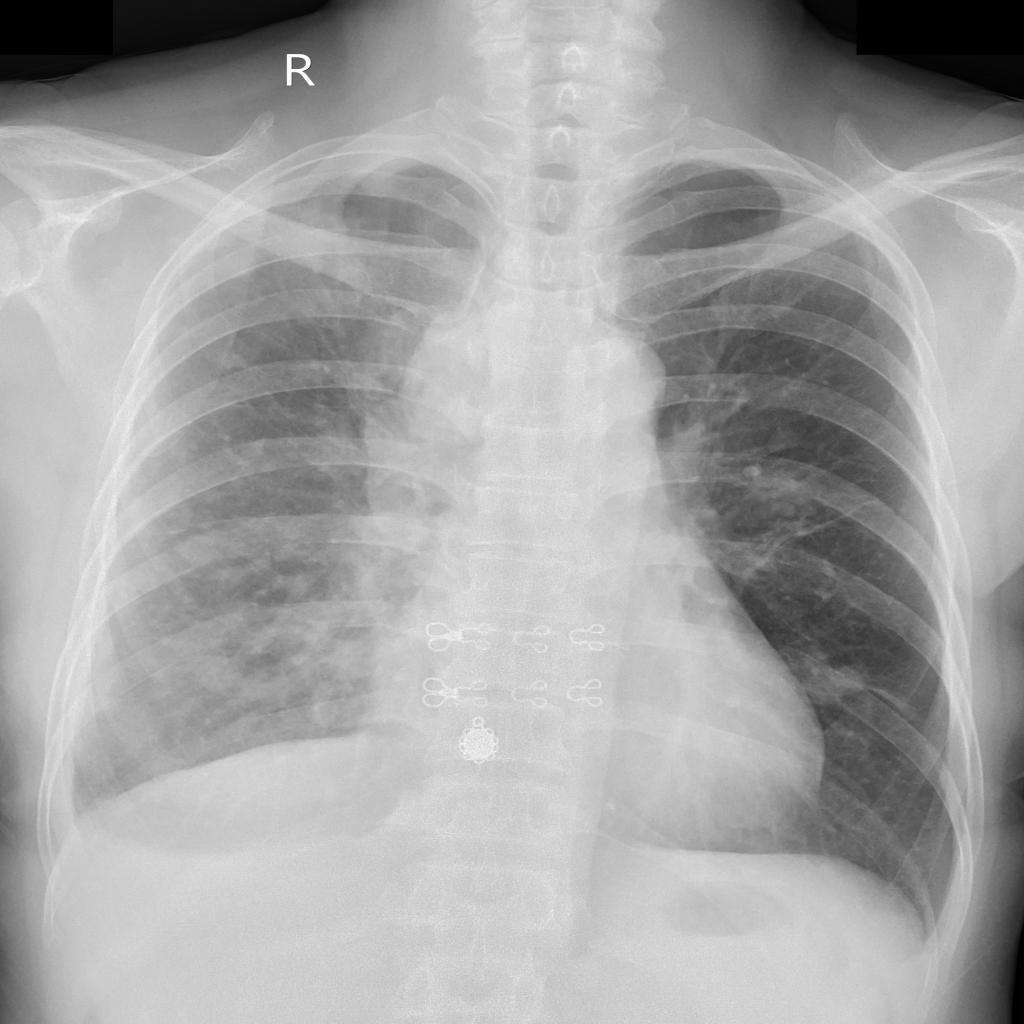Nodule: (400, 312, 491, 446), (801, 667, 868, 707), (178, 535, 223, 564)
